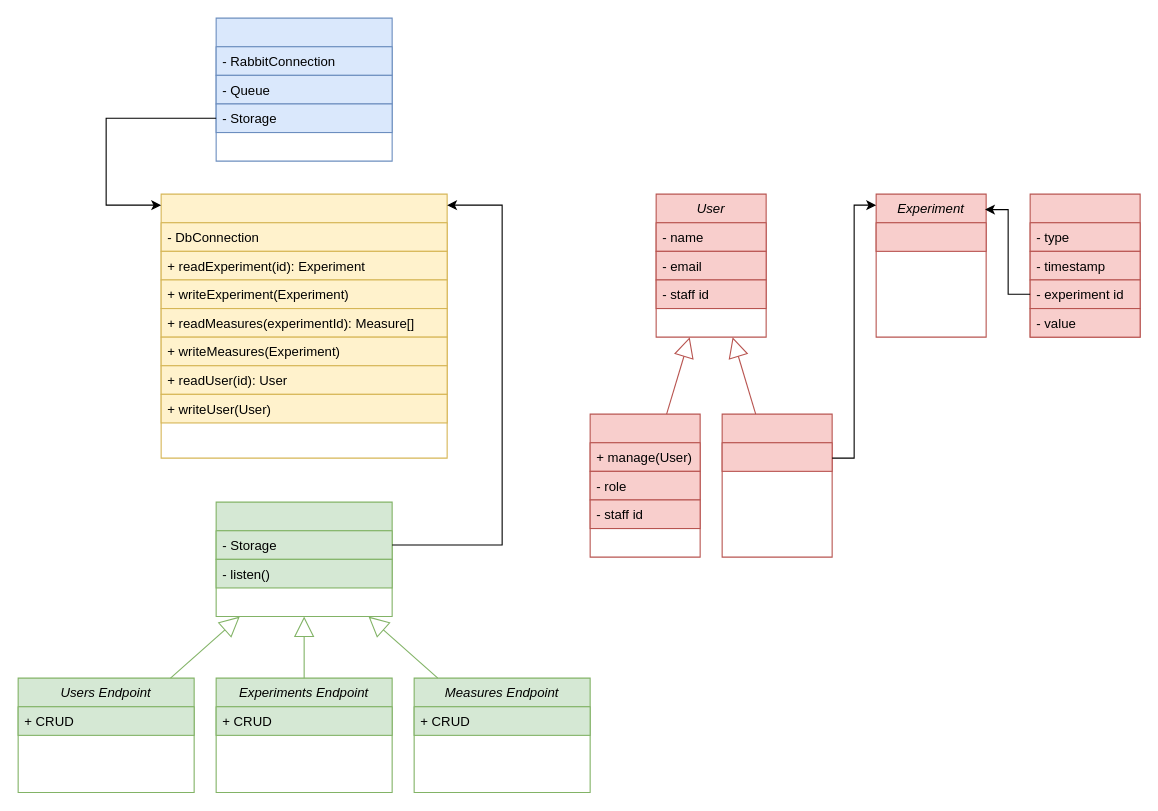
Some shapes in this 1158 by 811 pixel diagram are drawn without their labels. The box of each missing label's shape, as (x1, y1, x2, y2) in pixels:
- Experiments[]: (721, 442, 832, 471)
- id: (875, 222, 986, 251)
Admin: (589, 413, 700, 557)
Endpoint: (215, 501, 392, 617)
Measure: (1029, 193, 1140, 337)
Rabbit Listener: (215, 17, 392, 161)
Scientist: (721, 413, 832, 557)
Storage: (160, 193, 447, 458)
